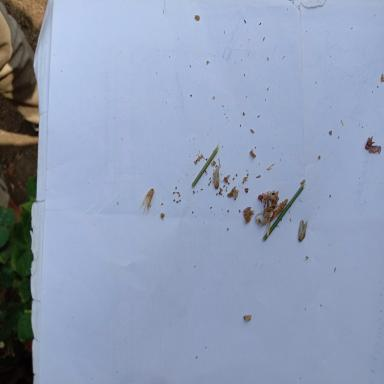pbw: (142, 188, 154, 215), (298, 219, 308, 242), (213, 167, 219, 189)
